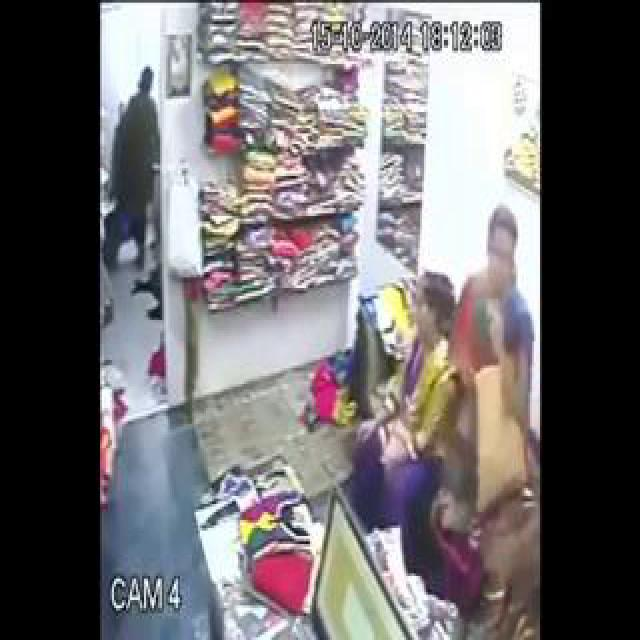shoplifting: (342, 139, 624, 640)
